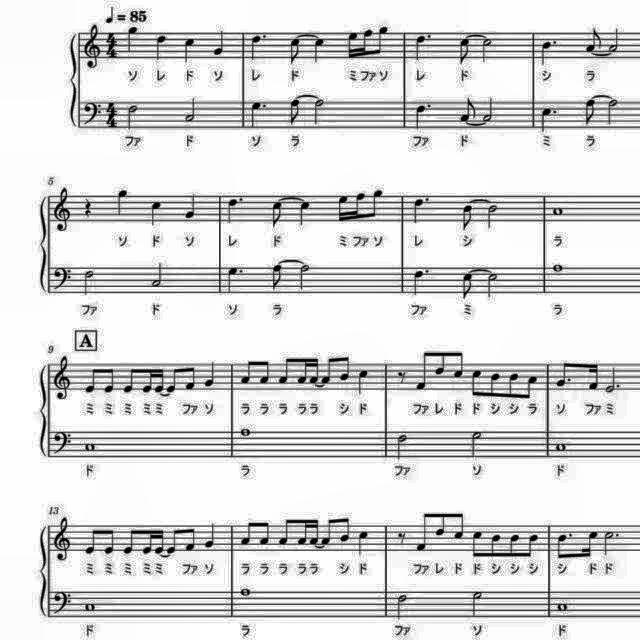Bass-clef: (52, 262, 76, 294), (80, 99, 104, 129), (52, 427, 76, 457), (52, 586, 76, 616)
Eighth-note: (413, 510, 431, 554), (414, 348, 431, 392), (456, 95, 479, 125), (554, 356, 574, 388), (583, 26, 605, 54), (284, 35, 304, 65), (455, 34, 473, 66), (269, 200, 287, 232), (582, 94, 600, 126), (276, 352, 292, 386), (376, 23, 392, 57), (368, 188, 384, 222), (459, 270, 476, 302), (459, 203, 477, 233), (468, 527, 484, 559), (468, 367, 484, 399), (276, 516, 292, 548), (100, 362, 116, 394), (258, 516, 274, 548), (122, 364, 138, 396), (122, 524, 138, 556), (102, 524, 118, 556), (338, 351, 354, 383), (338, 513, 354, 545), (82, 526, 98, 558), (286, 96, 302, 128), (82, 362, 98, 394), (166, 526, 182, 558), (270, 262, 286, 294), (555, 532, 573, 560), (506, 371, 522, 401), (182, 523, 198, 553), (238, 518, 254, 548), (488, 370, 504, 400), (182, 361, 198, 391), (236, 356, 252, 386), (166, 364, 182, 394), (452, 508, 466, 542), (452, 348, 466, 380), (524, 374, 540, 402), (435, 508, 449, 540), (320, 354, 334, 386), (319, 516, 333, 548), (434, 347, 448, 377), (526, 530, 540, 558), (508, 532, 522, 560), (260, 357, 274, 385), (490, 532, 502, 560)
Eighth-rest: (392, 367, 408, 387), (392, 527, 408, 545)
Full-note: (82, 598, 100, 614), (82, 440, 100, 456), (554, 440, 570, 456), (549, 204, 567, 218), (554, 600, 570, 614), (550, 262, 566, 276), (238, 586, 254, 598), (238, 426, 254, 438)
Half-dot: (604, 363, 626, 395), (600, 527, 620, 557)
Half-note: (311, 96, 329, 128), (604, 94, 620, 128), (148, 260, 166, 290), (470, 587, 488, 617), (181, 94, 199, 124), (484, 202, 502, 232), (394, 431, 411, 462), (296, 262, 312, 294), (126, 100, 142, 132), (80, 266, 96, 298), (479, 35, 496, 65), (469, 429, 486, 459), (394, 591, 411, 621), (604, 26, 622, 54), (480, 94, 498, 122), (486, 270, 500, 300)
Quarter-dot: (410, 32, 436, 64), (410, 194, 434, 226), (412, 100, 436, 132), (411, 266, 434, 298), (538, 106, 562, 136), (538, 39, 562, 69), (249, 29, 271, 61), (223, 264, 245, 296), (222, 194, 244, 226), (247, 98, 269, 130)
Quarter-note: (310, 35, 330, 65), (153, 32, 171, 64), (147, 198, 165, 230), (295, 199, 313, 229), (181, 191, 199, 221), (354, 365, 372, 395), (112, 189, 130, 219), (126, 24, 142, 56), (180, 36, 197, 66), (354, 530, 372, 558), (212, 27, 228, 58), (203, 520, 219, 550), (202, 360, 218, 390)
Quarter-rest: (82, 198, 96, 218)
Sixteenth-note: (578, 530, 598, 562), (334, 190, 352, 224), (586, 358, 602, 392), (344, 28, 360, 62), (294, 516, 310, 548), (294, 354, 310, 386), (140, 364, 154, 396), (353, 190, 367, 222), (154, 526, 168, 558), (153, 363, 167, 395), (140, 525, 154, 555), (310, 515, 322, 549), (360, 28, 372, 60), (309, 355, 321, 387)
Treble-clef: (52, 353, 76, 403), (52, 186, 76, 236), (52, 518, 76, 566), (84, 20, 105, 70)
